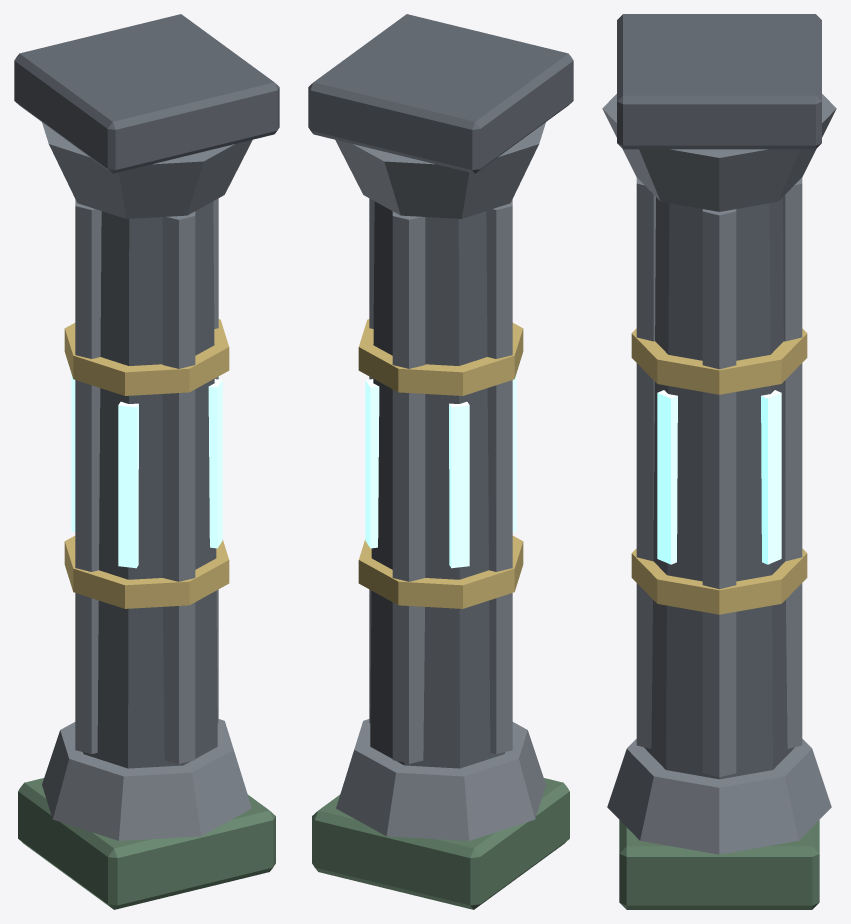
The model's file is castle_pillar.glb.
3 renders of one model, left to right at view 1: azimuth 30°, elevation 25°; view 2: azimuth 150°, elevation 25°; view 3: azimuth 270°, elevation 25°, orthographic. The views are drawn at different scales.
Visible parts, largest first — view 1: Castle_Pillar; view 2: Castle_Pillar; view 3: Castle_Pillar.
Part boxes in pixels (box(x1,y1,x2,y2)): Castle_Pillar: box(14, 14, 279, 909); Castle_Pillar: box(308, 14, 573, 909); Castle_Pillar: box(602, 14, 836, 909).
Bounding box in the file's own units: 1.2 × 4.61 × 1.2.
